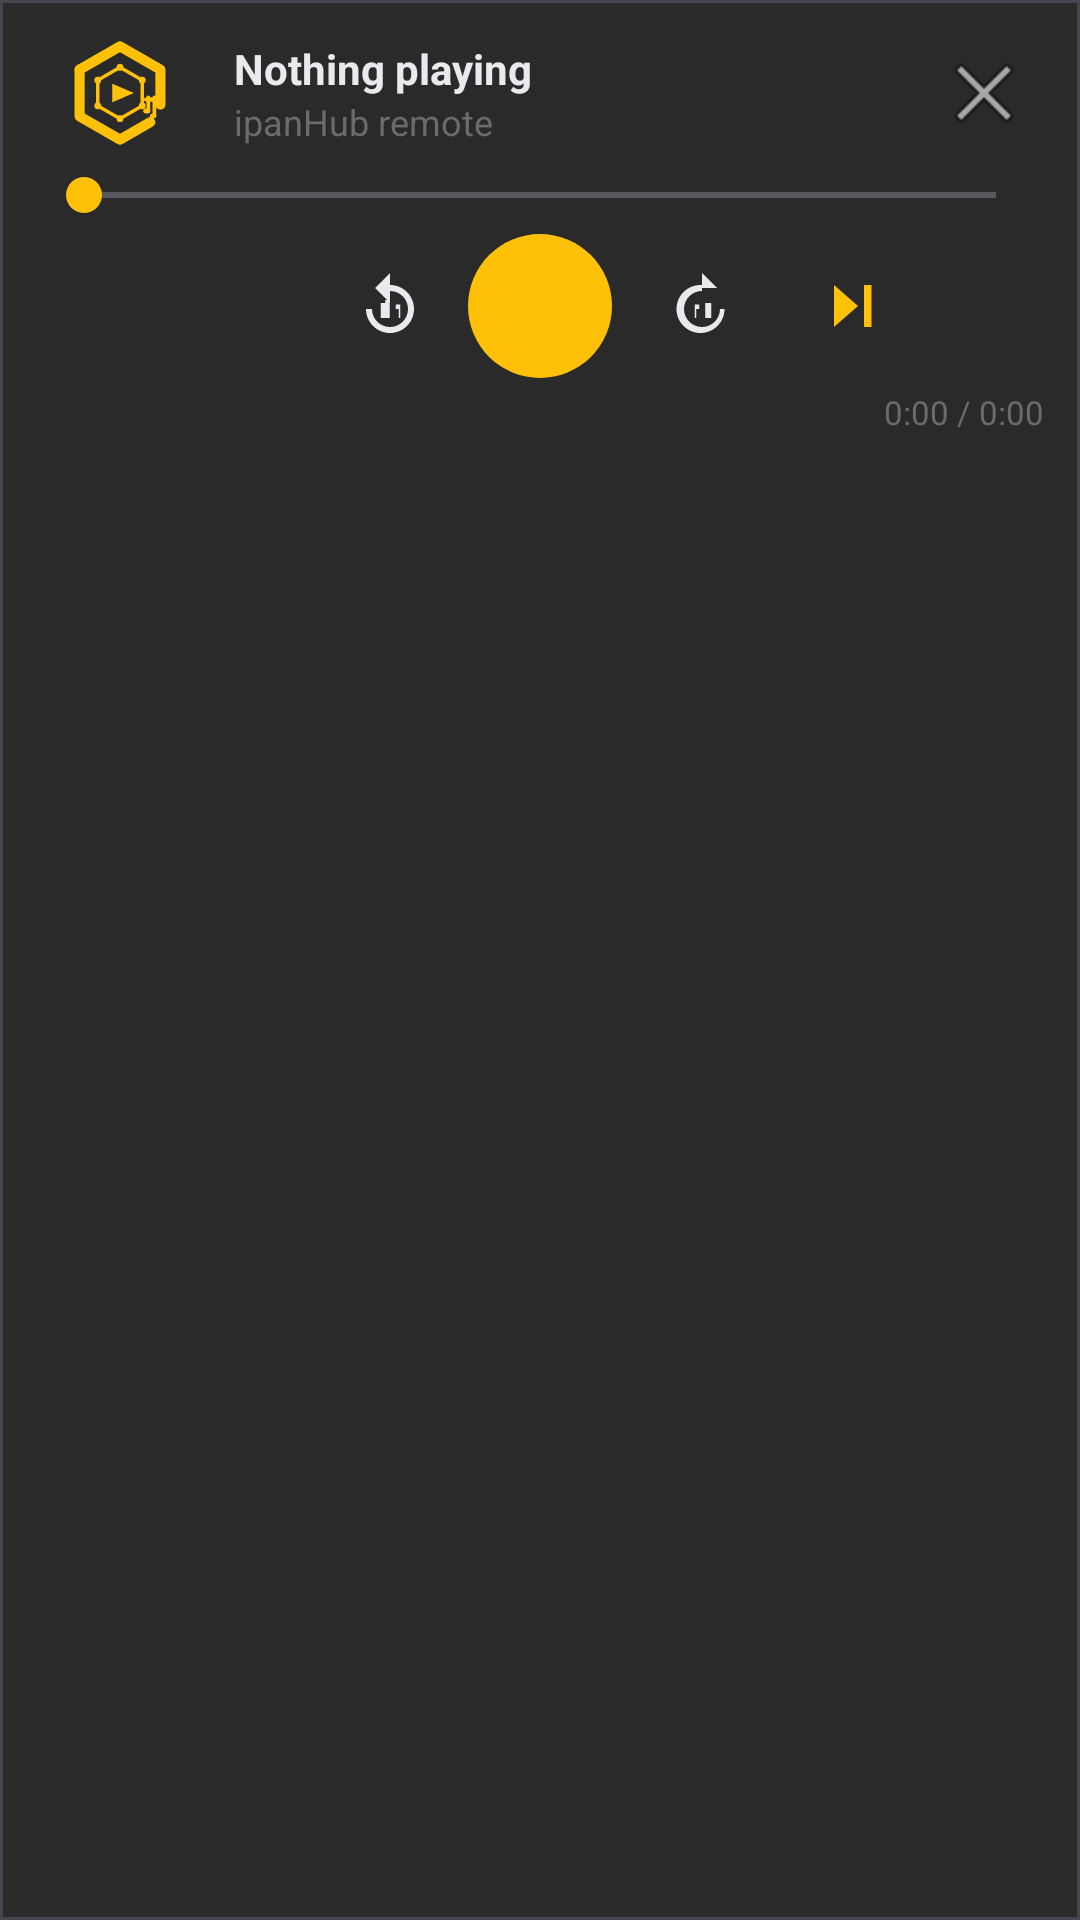

Where icons sit on this 1080*1920 app screen, as (x1, y1, x2, y2):
Back 10 seconds: (366, 273, 414, 333)
Forward 10 seconds: (676, 273, 725, 333)
Hide queue panel: (957, 66, 1011, 120)
Next track: (834, 285, 872, 327)
